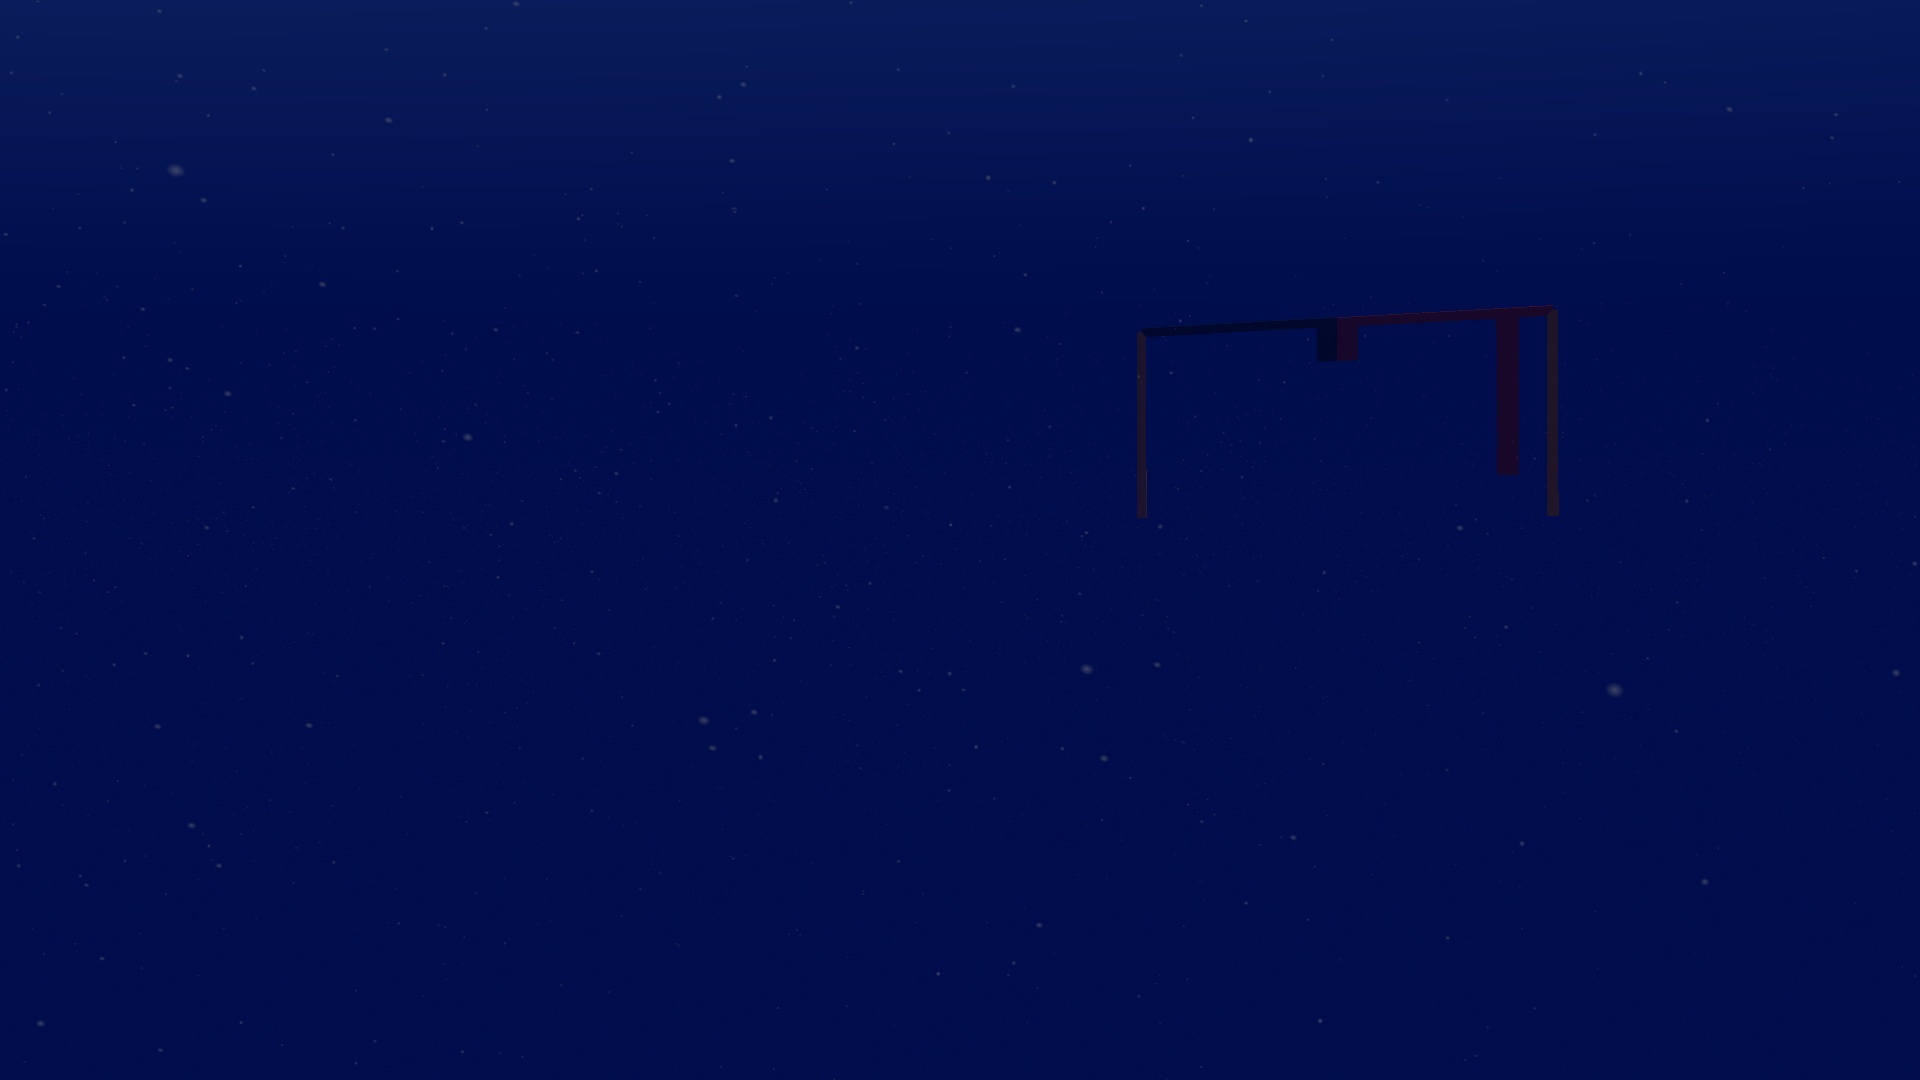Gate: (1125, 301, 1568, 527)
